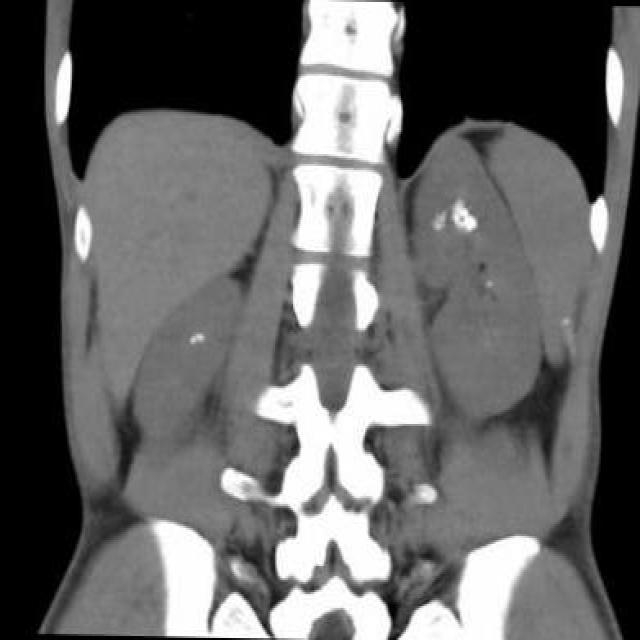Tas_Var: (447, 197, 468, 235), (460, 214, 481, 232), (432, 208, 444, 232), (483, 276, 491, 292), (195, 330, 203, 344), (458, 207, 468, 215), (187, 335, 194, 345)
